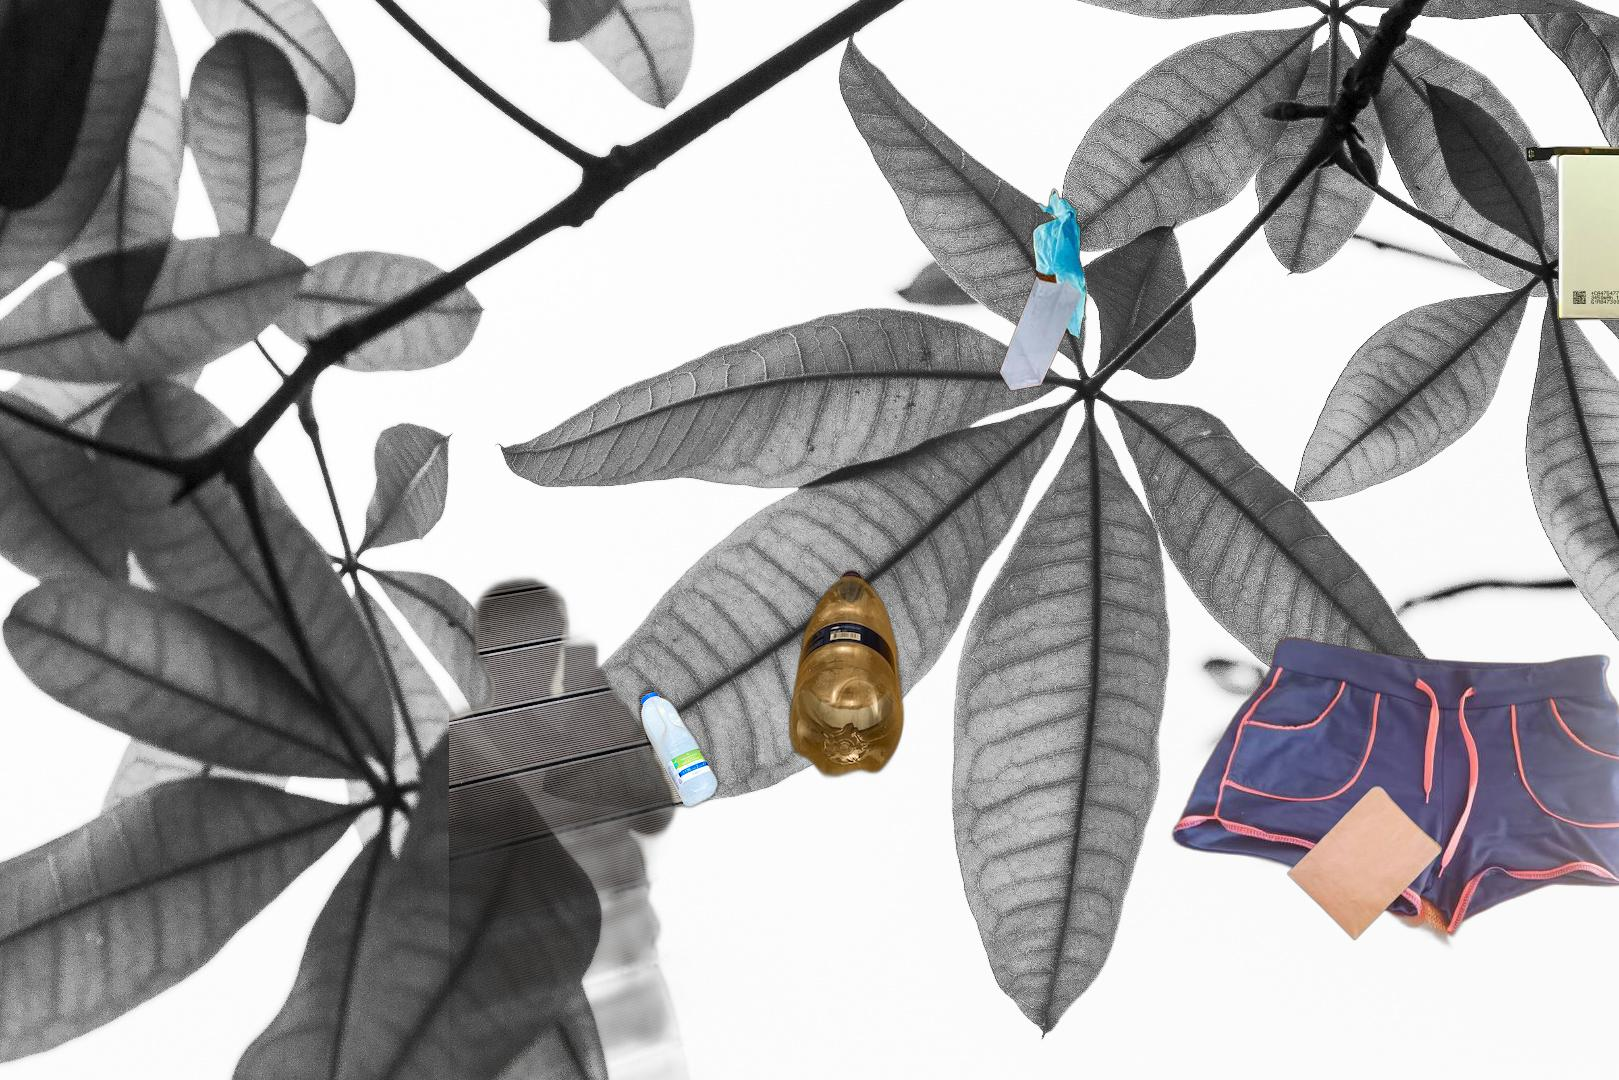battery: (1523, 143, 1619, 324)
clothes: (1168, 634, 1619, 952)
paper-bag: (1286, 782, 1444, 943)
plastic-bag: (997, 186, 1089, 392)
plastic-bottles: (448, 571, 798, 1080), (787, 565, 907, 782)
